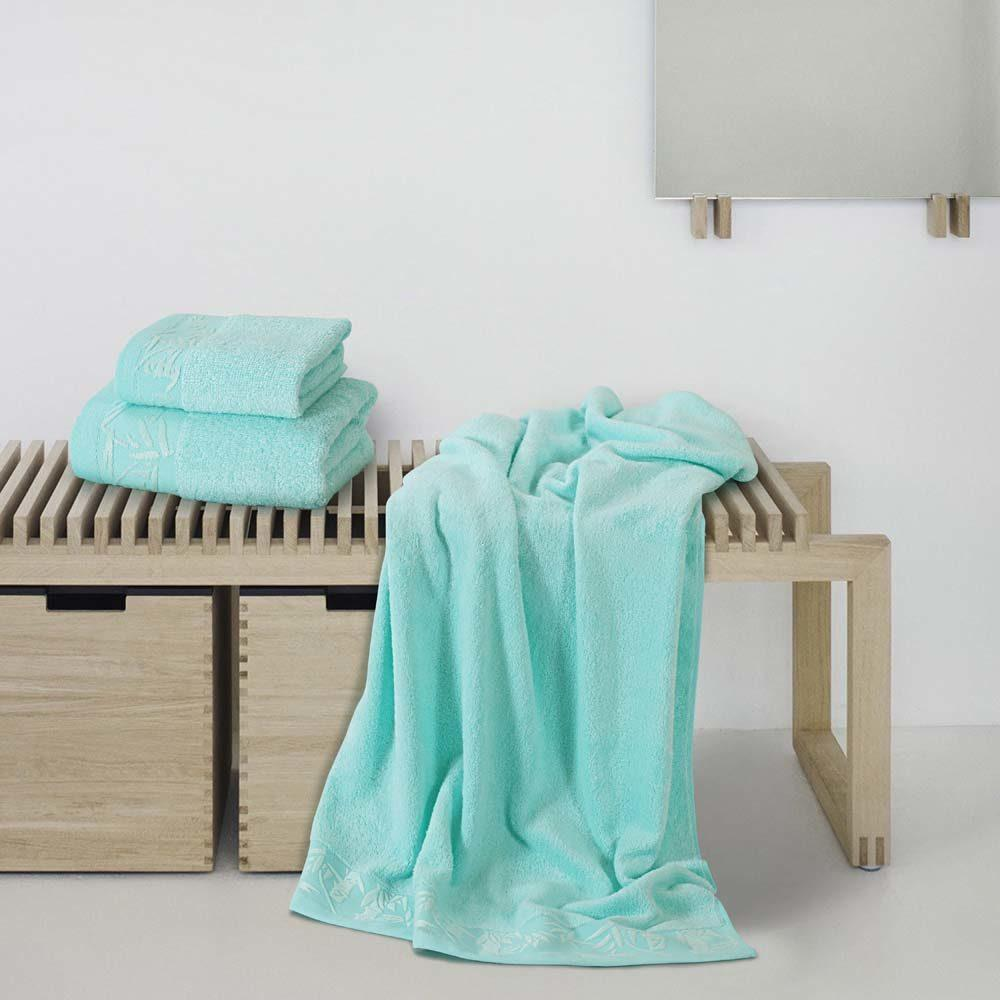towel: (68, 277, 398, 530)
